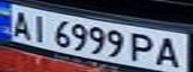6: (48, 17, 72, 48)
9: (103, 27, 130, 60), (84, 25, 109, 56), (66, 20, 90, 52)
A: (151, 34, 187, 70), (6, 8, 36, 39)
I: (24, 12, 54, 43)
P: (127, 30, 160, 63)
